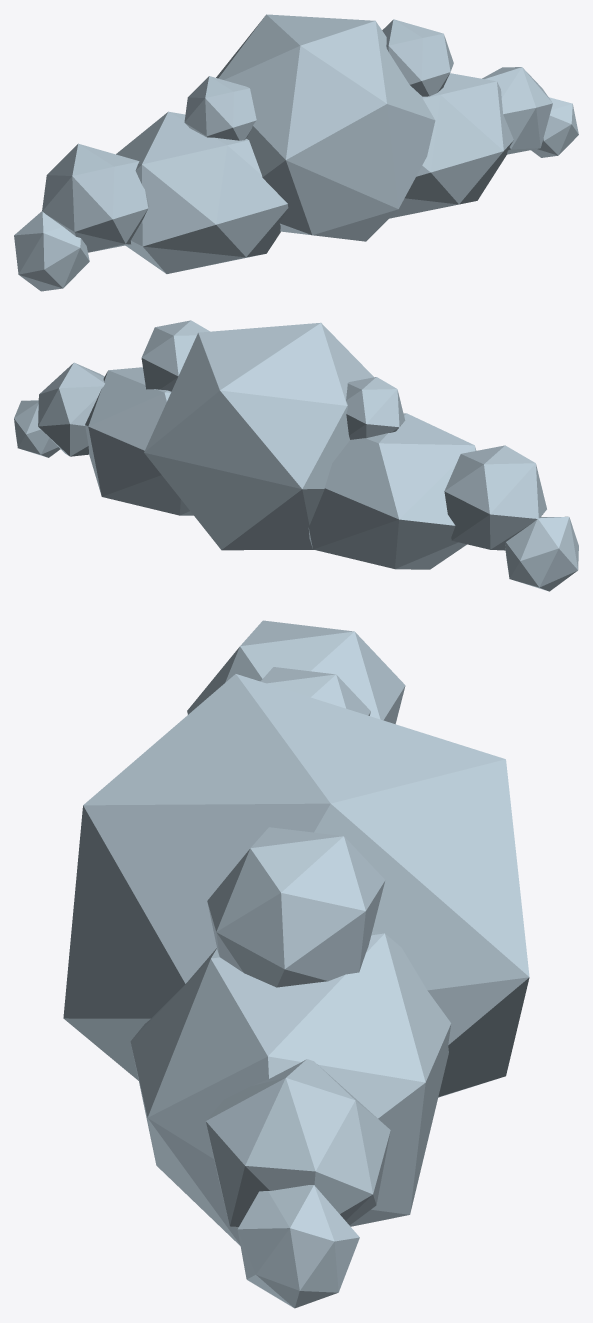
Rendered from small_cloud_10.fbx.
3 renders of one model, top to bottom at view 1: azimuth 30°, elevation 25°; view 2: azimuth 150°, elevation 25°; view 3: azimuth 270°, elevation 25°, orthographic. The views are drawn at different scales.
Parts seen in each view (by area): view 1: cloud_10; view 2: cloud_10; view 3: cloud_10.
Boxes of the visible parts, x1,y1,x2,y2 form: cloud_10: [14, 14, 578, 291]; cloud_10: [14, 320, 578, 591]; cloud_10: [63, 620, 529, 1308].
Size of the model in its own units: 569 by 206 by 206.
